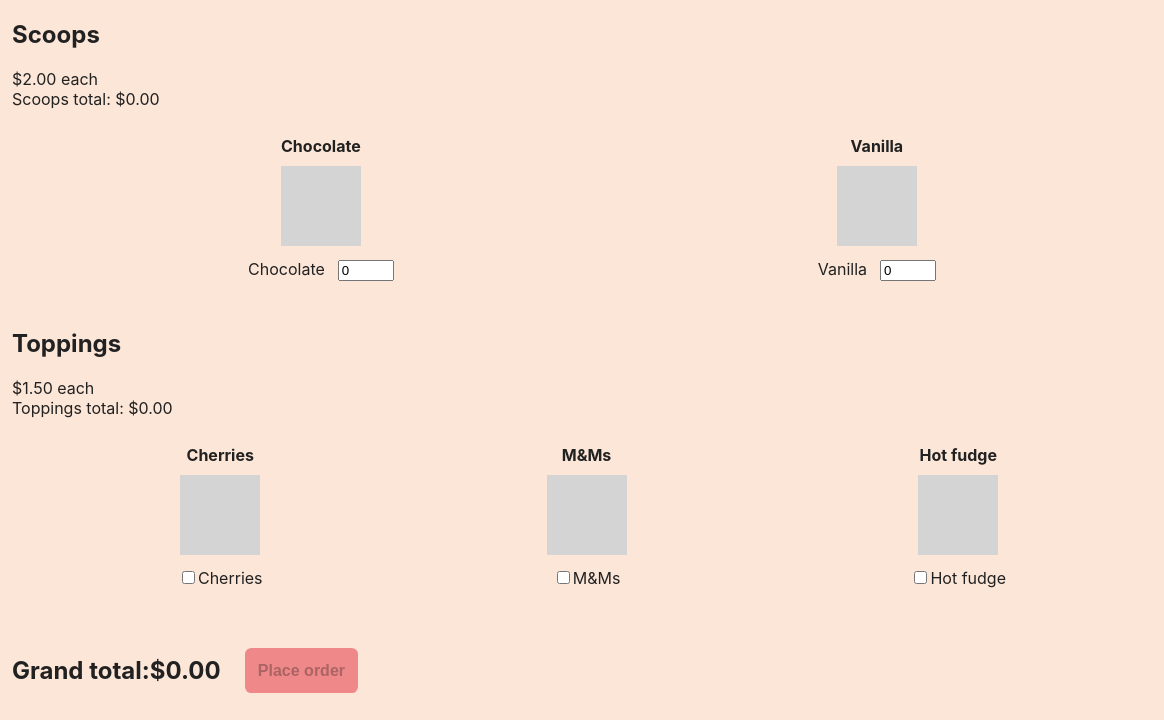
it: Grand total › Grand total updates properly if topping is added first
Click the checkbox labelled "Cherries": (188, 578) [182,571,195,584]
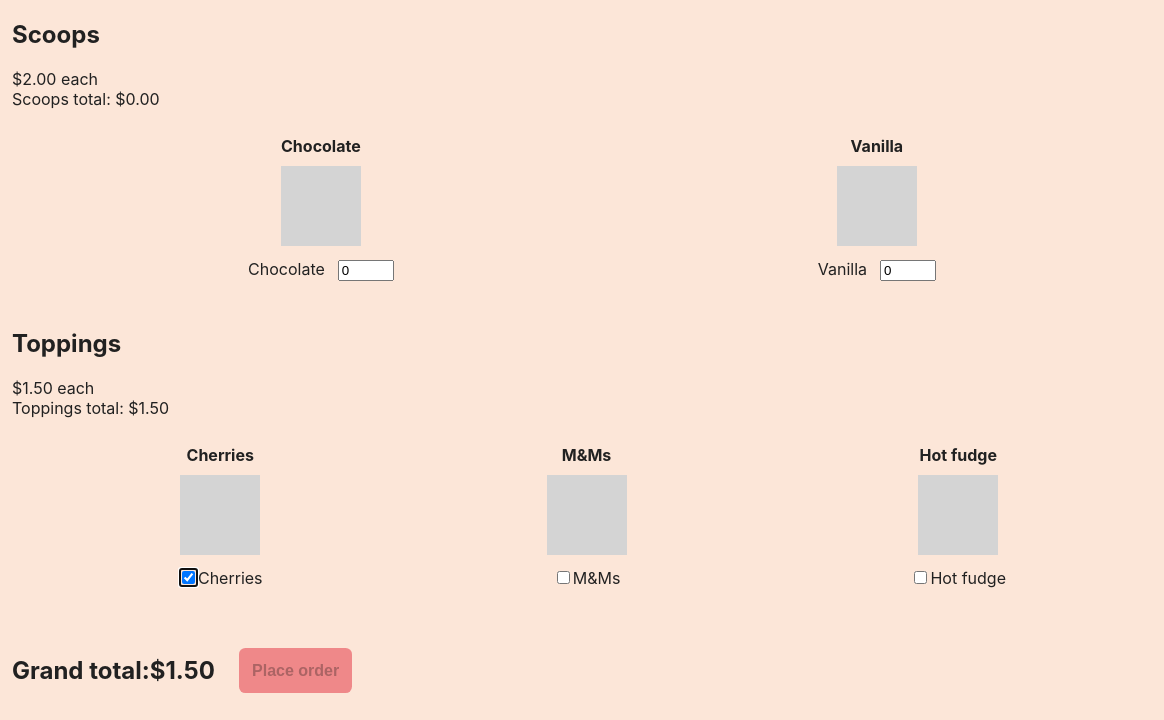
expect the heading "Grand total:$1.50" is shown: met, box [12,656,215,685]
Replace the text in the number field labelled "Vanilla" with "2": (908, 270) [880,260,936,281]
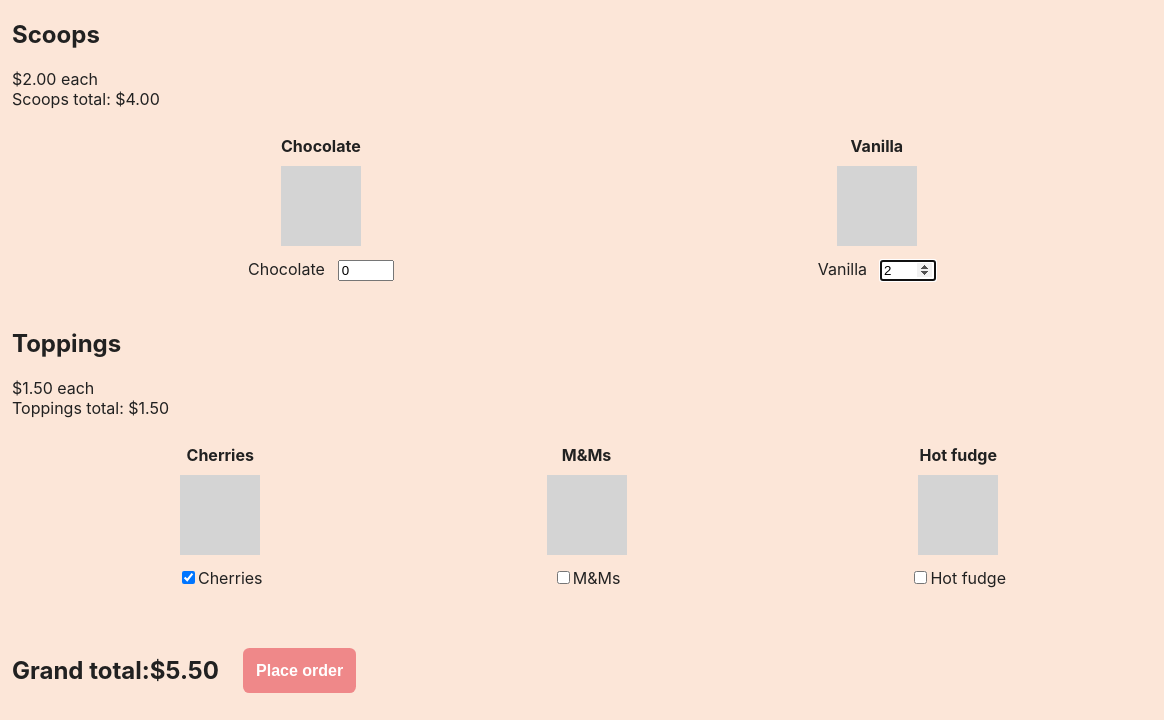
expect the heading "Grand total:$5.50" is shown: met, box [12,656,219,685]
